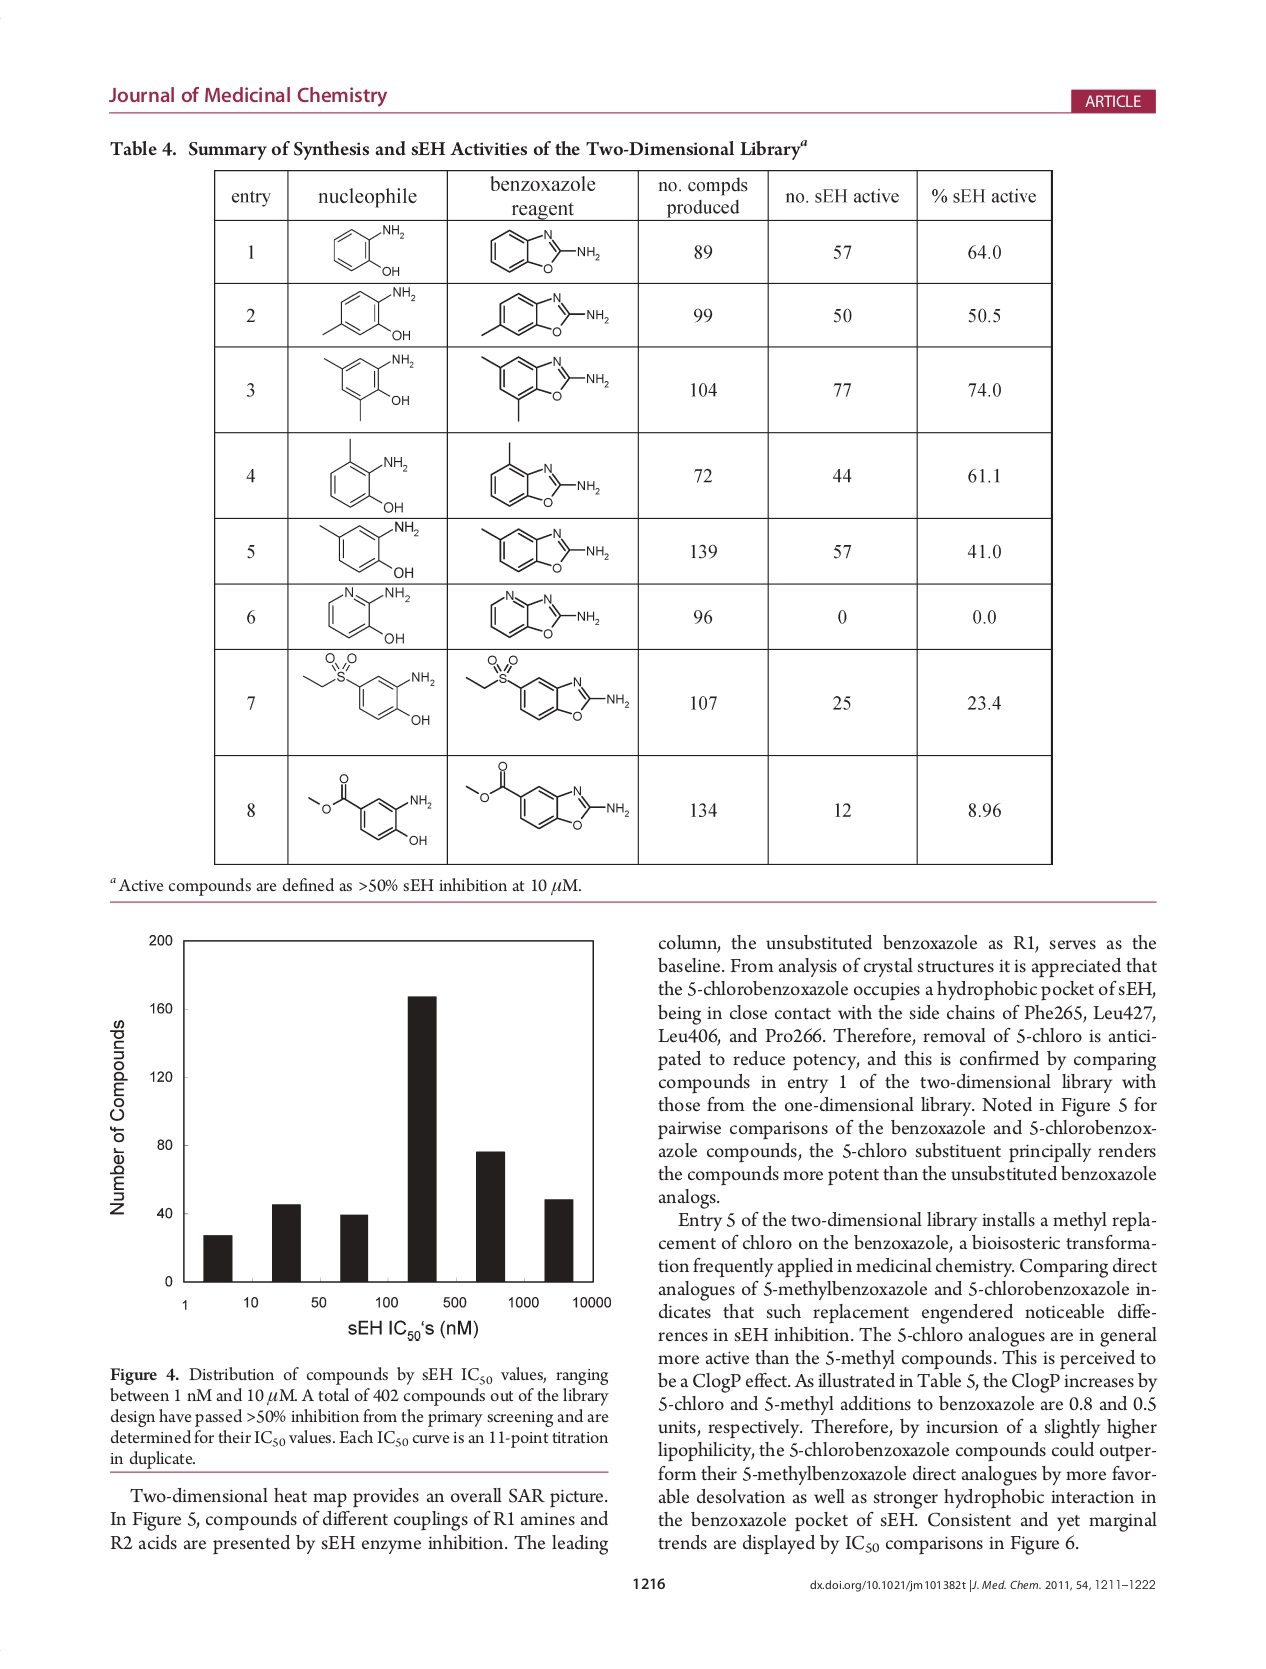exist_molecular: (461, 759, 630, 840), (464, 653, 632, 726), (297, 650, 440, 731), (302, 770, 434, 852), (477, 352, 614, 426), (487, 438, 604, 511), (319, 350, 419, 426), (477, 524, 610, 577), (316, 517, 420, 581), (324, 436, 407, 515), (480, 290, 608, 340), (481, 588, 602, 641), (319, 285, 418, 343), (485, 227, 602, 275), (326, 221, 408, 281)
